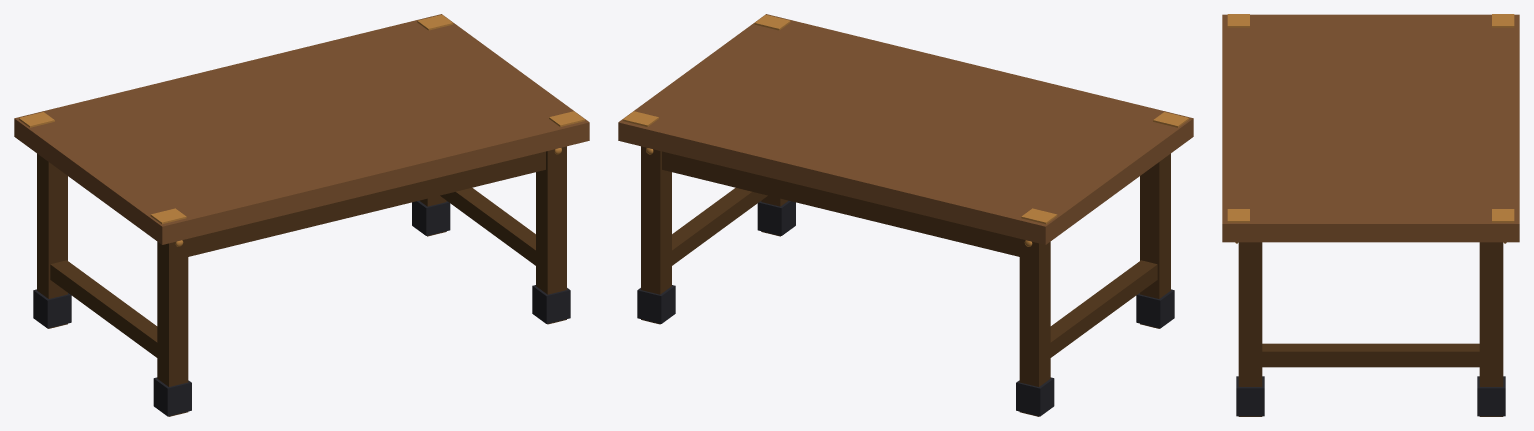
File: mia-map_table.glb
The picture shows the model from 3 angles, left to right: view 1: azimuth 30°, elevation 25°; view 2: azimuth 150°, elevation 25°; view 3: azimuth 270°, elevation 25°; orthographic projection.
Parts seen in each view (by area): view 1: Body_oak, Body_wood, Body_iron, Body_brass; view 2: Body_oak, Body_wood, Body_iron, Body_brass; view 3: Body_oak, Body_wood, Body_iron, Body_brass.
Part boxes in pixels (x1,y1,x2,y2): Body_oak: (14,14,589,244); Body_wood: (37,146,566,416); Body_iron: (33,200,570,416); Body_brass: (19,15,584,246); Body_oak: (618,14,1193,244); Body_wood: (641,146,1170,416); Body_iron: (637,200,1174,416); Body_brass: (623,15,1188,246); Body_oak: (1222,14,1519,242); Body_wood: (1238,242,1503,416); Body_iron: (1236,376,1505,416); Body_brass: (1227,14,1514,243).
Size of the model in its own units: 2 by 0.9005 by 1.2.
